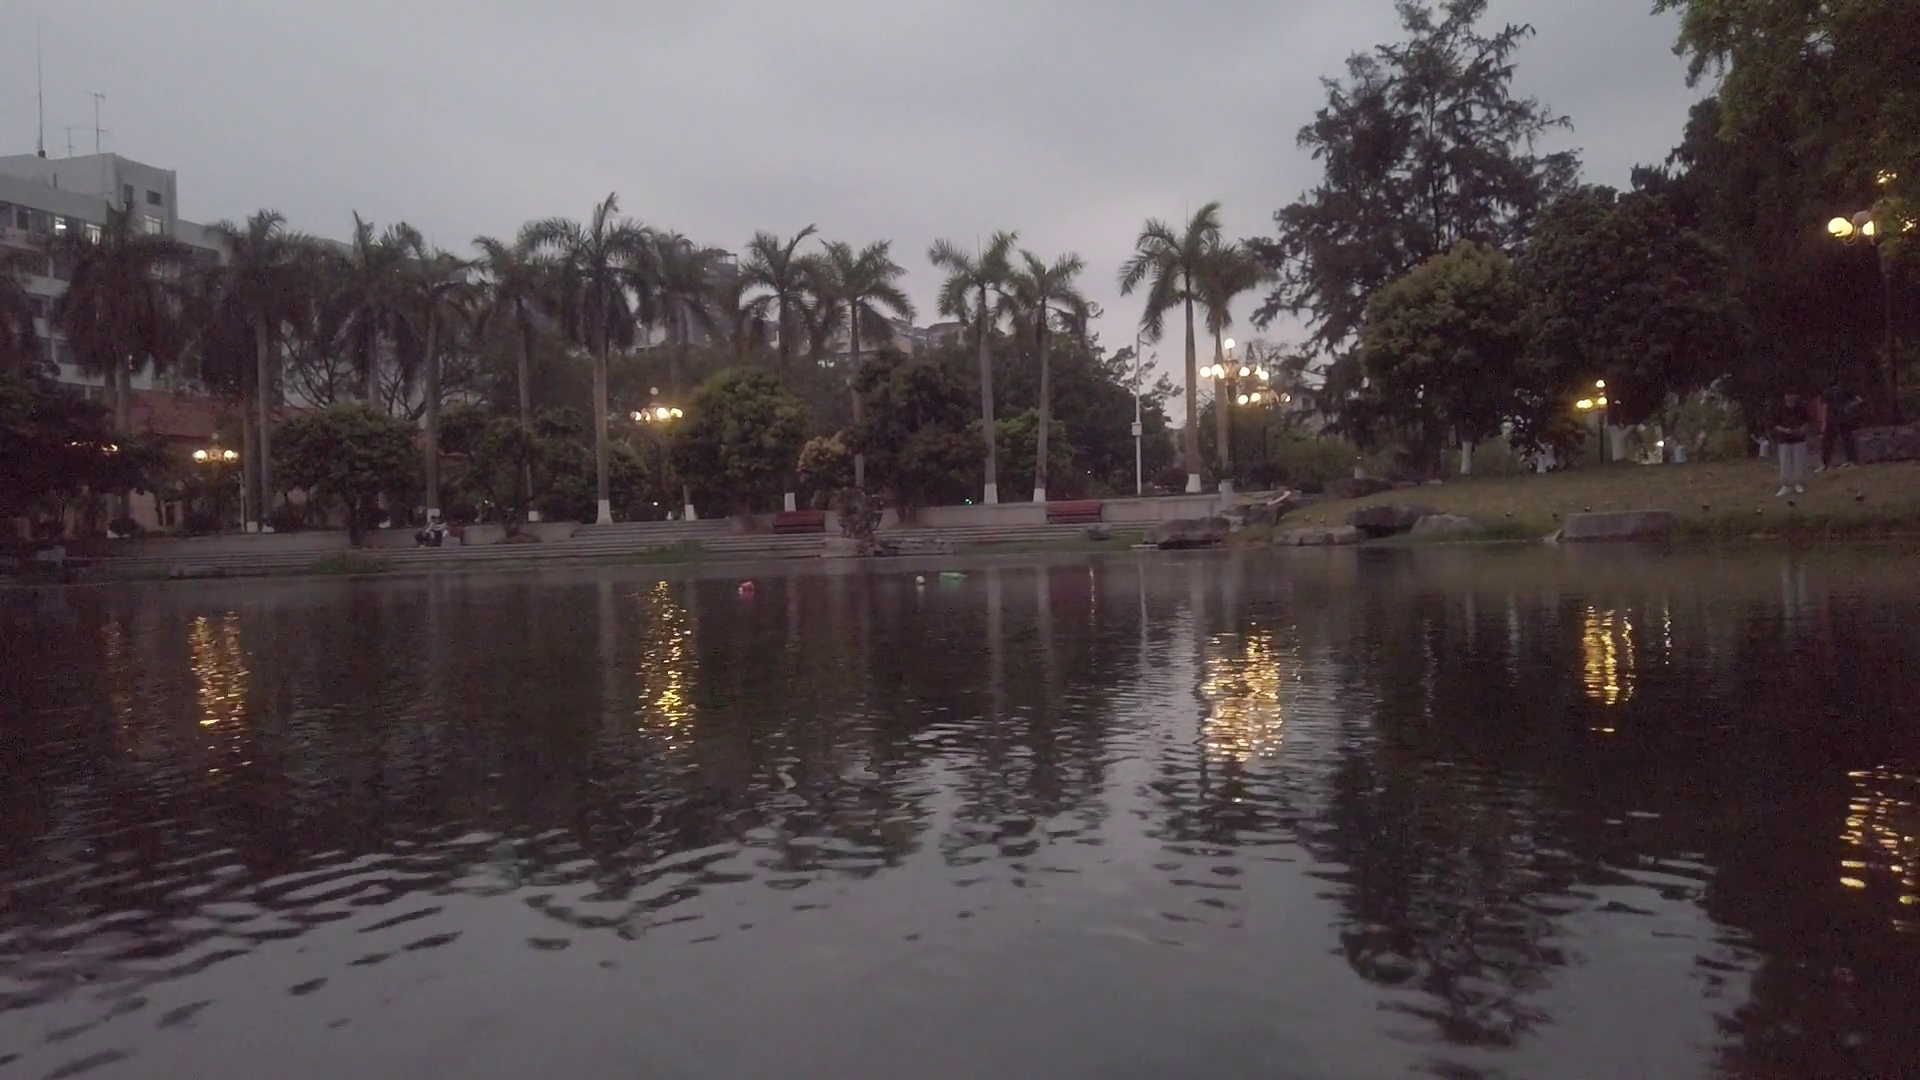bottle: (938, 570, 968, 582), (737, 582, 756, 593), (915, 575, 924, 585)
